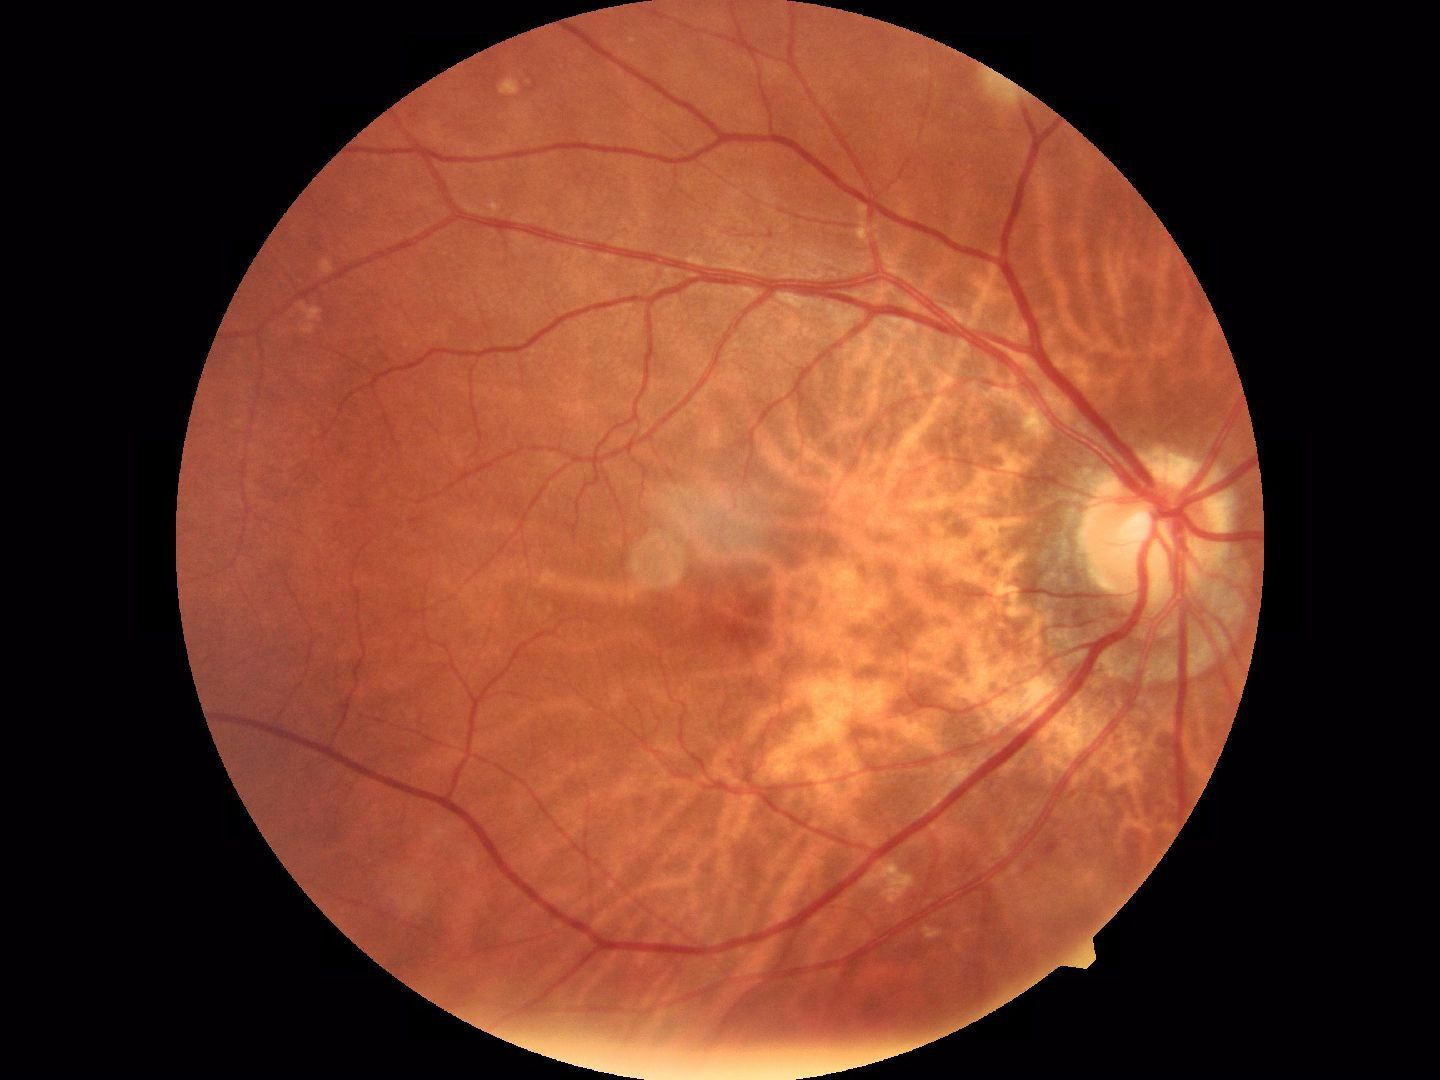Arterioles: (412, 136, 757, 471), (283, 531, 547, 781)
Optic-Disc: (1081, 438, 1242, 638)
VB: (952, 251, 1089, 417)
Venules: (1027, 649, 1161, 794)
